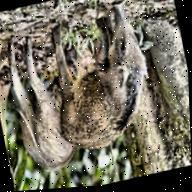boar: (37, 0, 182, 169), (0, 33, 82, 189)
